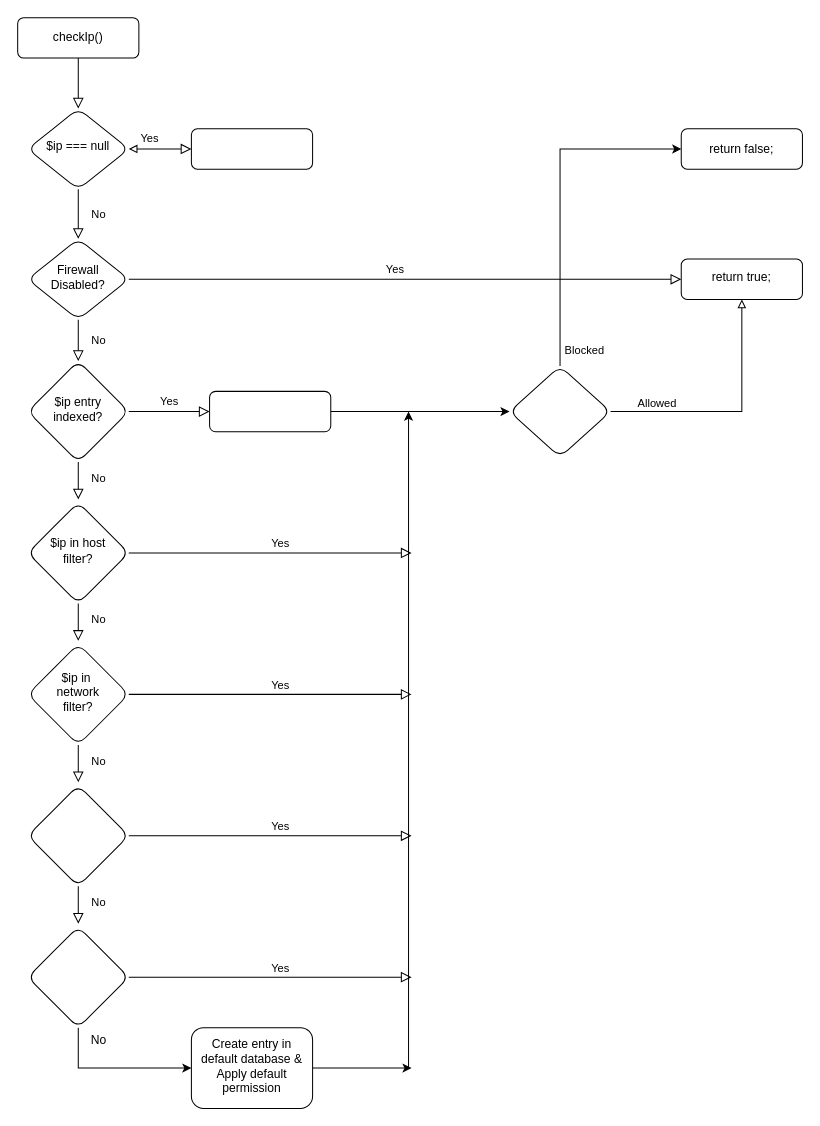
Some shapes in this 820 by 1126 pixel diagram are drawn without their labels. The centre of each missing label's shape, as x and y in pixels:
"$ip in default database?" goes at point (78, 977).
"$ip in ip2location filter?" goes at point (78, 835).
"Filter permission" goes at point (560, 411).
"Get filter by ID" goes at point (270, 411).
"getVisitorIp()" goes at point (251, 148).
